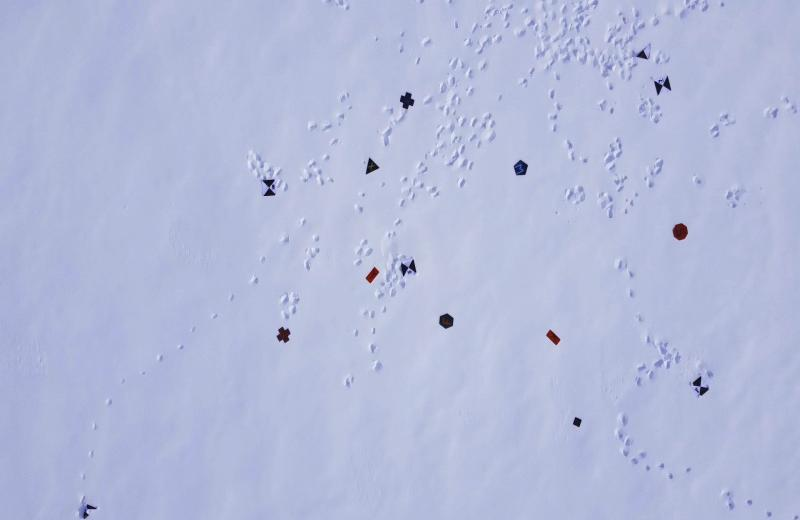Cross: (275, 326, 292, 346), (399, 91, 415, 112)
Hexagon: (438, 312, 456, 331)
Octagon: (672, 222, 690, 242)
Pentagon: (512, 159, 528, 177)
Rectangle: (364, 264, 382, 286), (546, 328, 562, 348)
Square: (572, 414, 583, 429)
Triangle: (362, 157, 381, 176)
